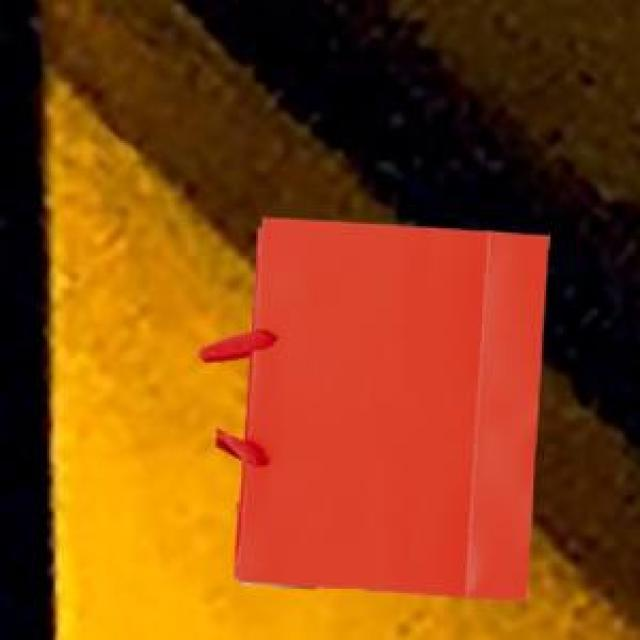paper: (196, 213, 546, 595)
